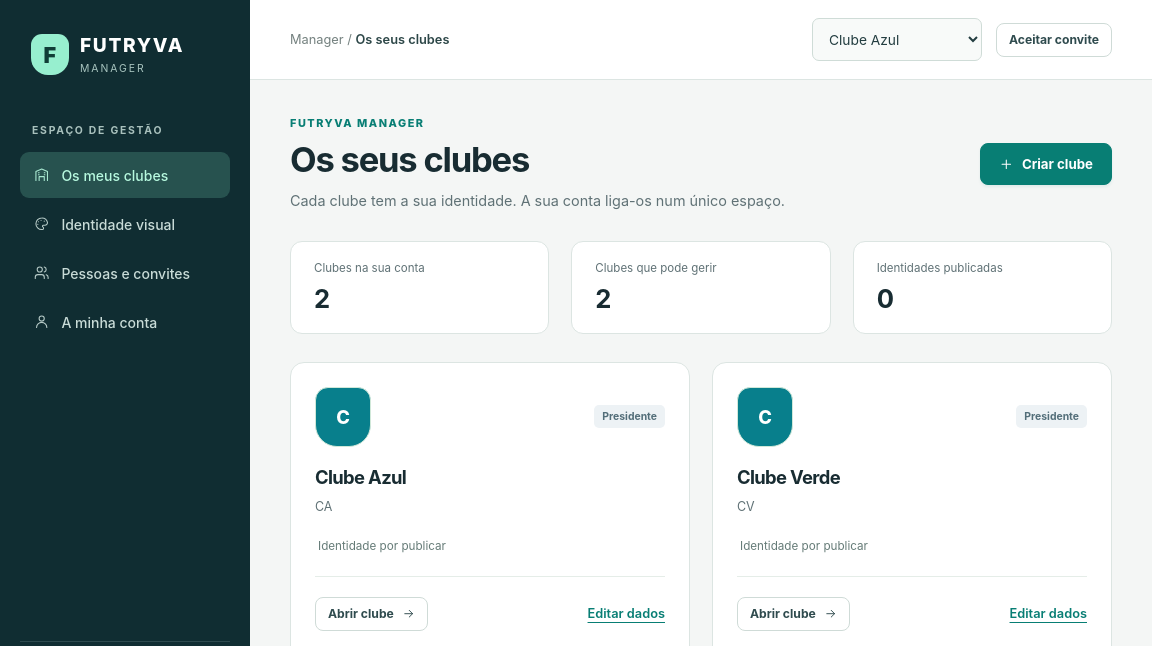
gestão e isolamento visual › mantém o clube selecionado quando chega atrasado um rascunho de outro clube
Expected: the heading "Clube Azul" is shown, 315,466 -> 406,488
Click the button "Identidade visual": x=125, y=224 20,201 -> 230,247
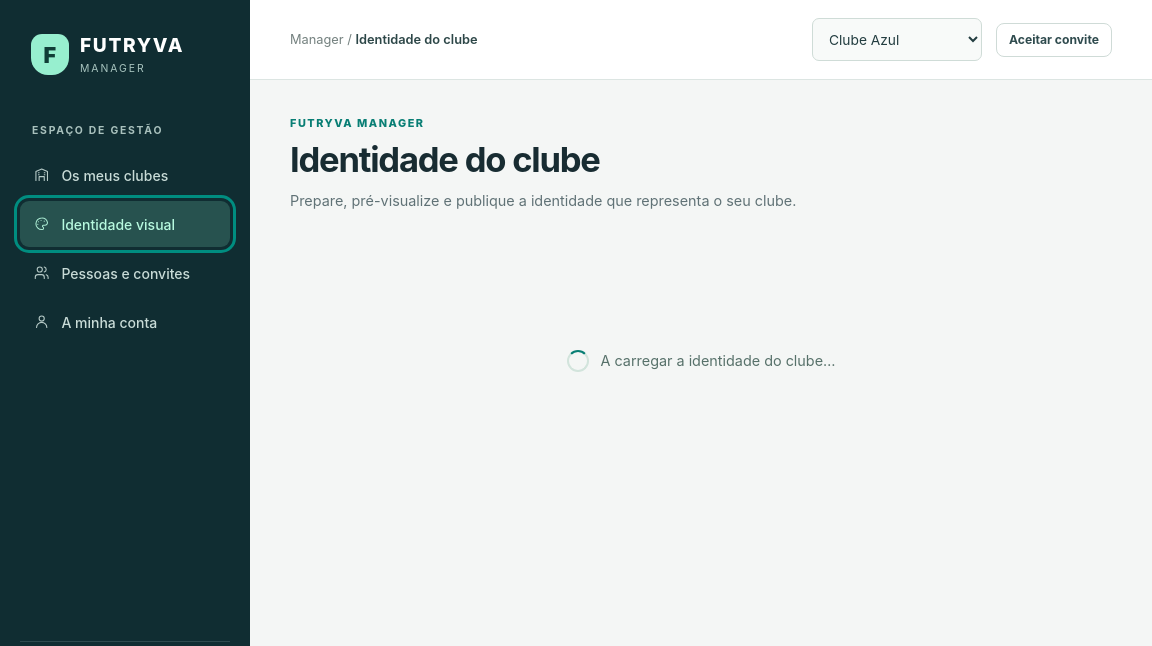
Select "Clube Verde" in the dropdown named "Clube ativo": x=897, y=40 812,18 -> 982,61
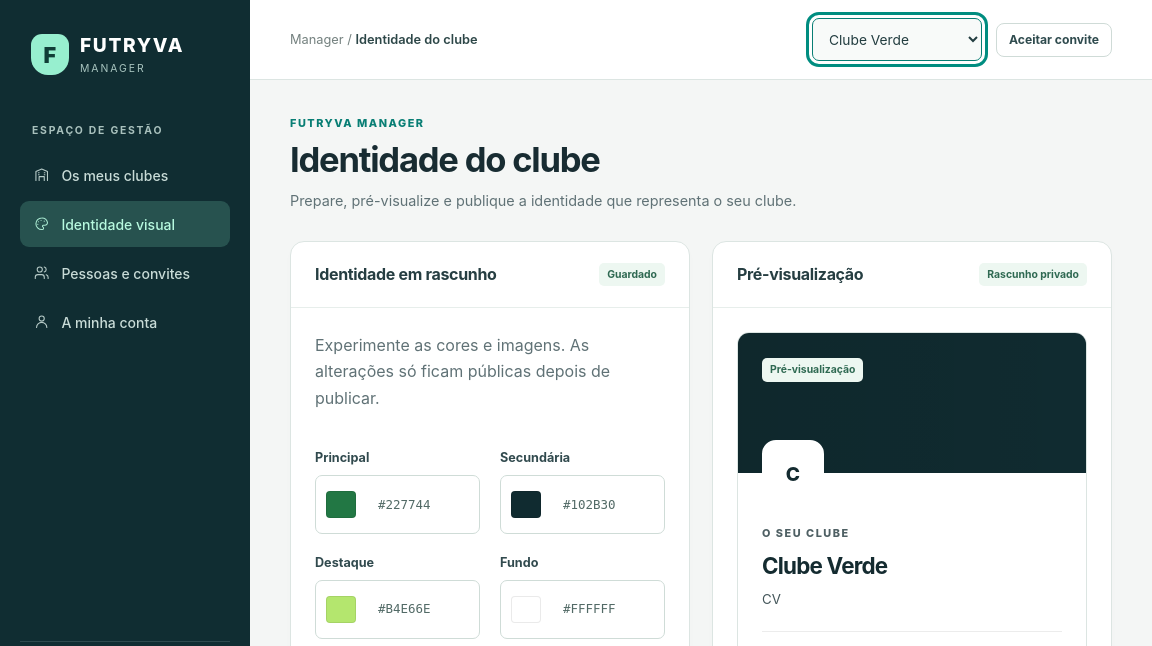
Expected: the heading "Clube Azul" is not shown
Expected: the field labelled "Principal" holds "#227744", 366,483 -> 469,526
Expected: the heading "Clube Verde" is shown, 762,552 -> 887,579
